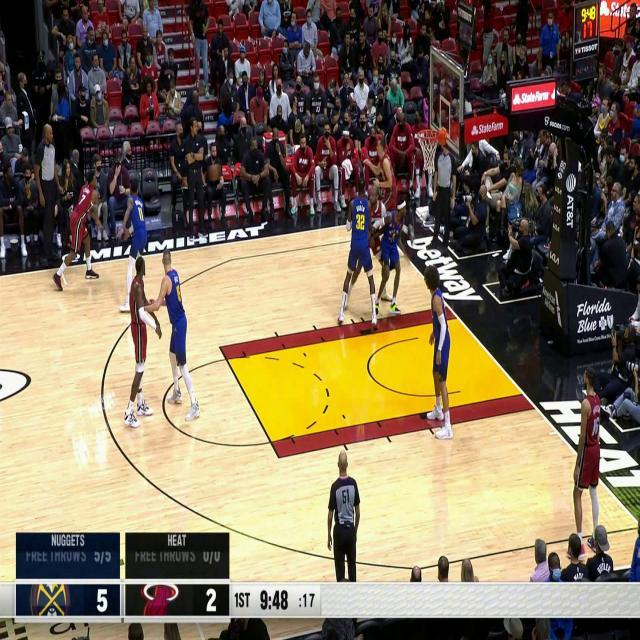rim: (210, 163, 220, 181)
